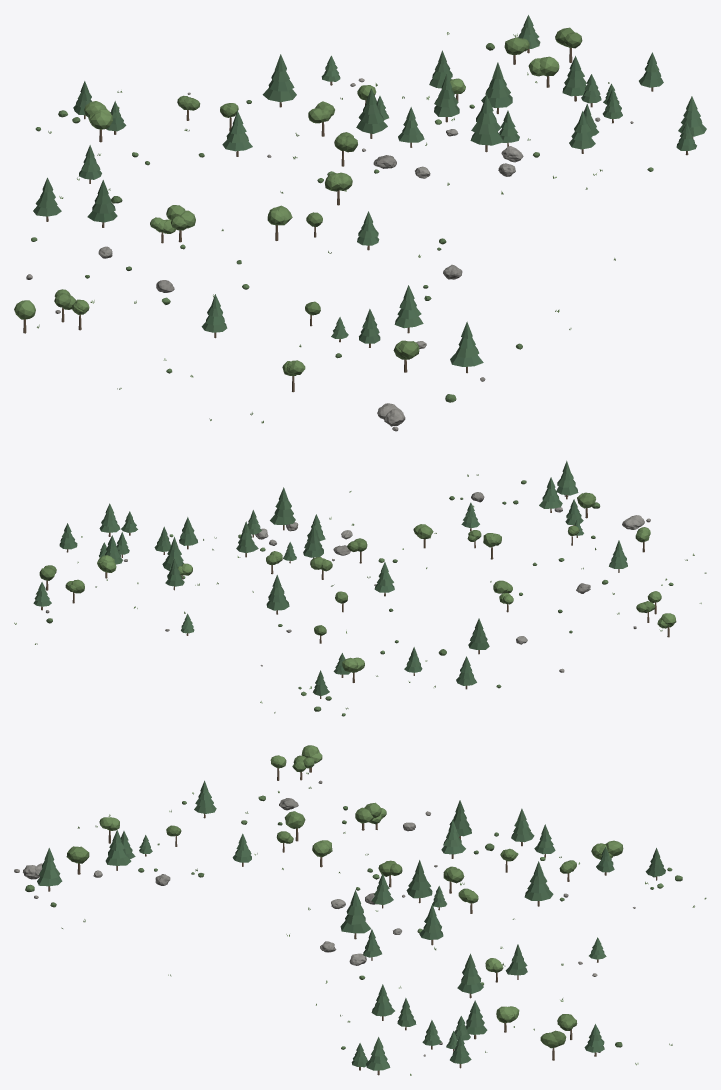
Rendered from arch_land_scatter_c16_21.glb.
3 renders of one model, top to bottom at view 1: azimuth 30°, elevation 25°; view 2: azimuth 150°, elevation 25°; view 3: azimuth 270°, elevation 25°, orthographic. The views are drawn at different scales.
Visible parts, largest first — view 1: arch_land_scatter_c16_21; view 2: arch_land_scatter_c16_21; view 3: arch_land_scatter_c16_21.
Part boxes in pixels (box(x1,y1,x2,y2)): arch_land_scatter_c16_21: box(14, 15, 706, 431); arch_land_scatter_c16_21: box(14, 460, 706, 716); arch_land_scatter_c16_21: box(14, 745, 706, 1075).
Size of the model in its own units: 214 by 34.71 by 205.
